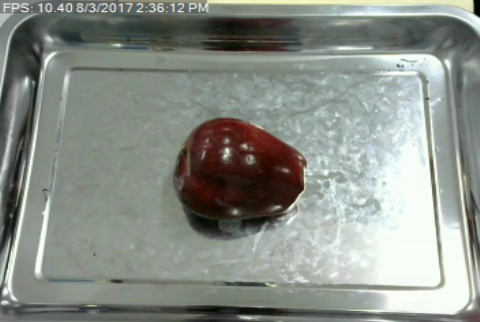Apple: (169, 113, 311, 223)
